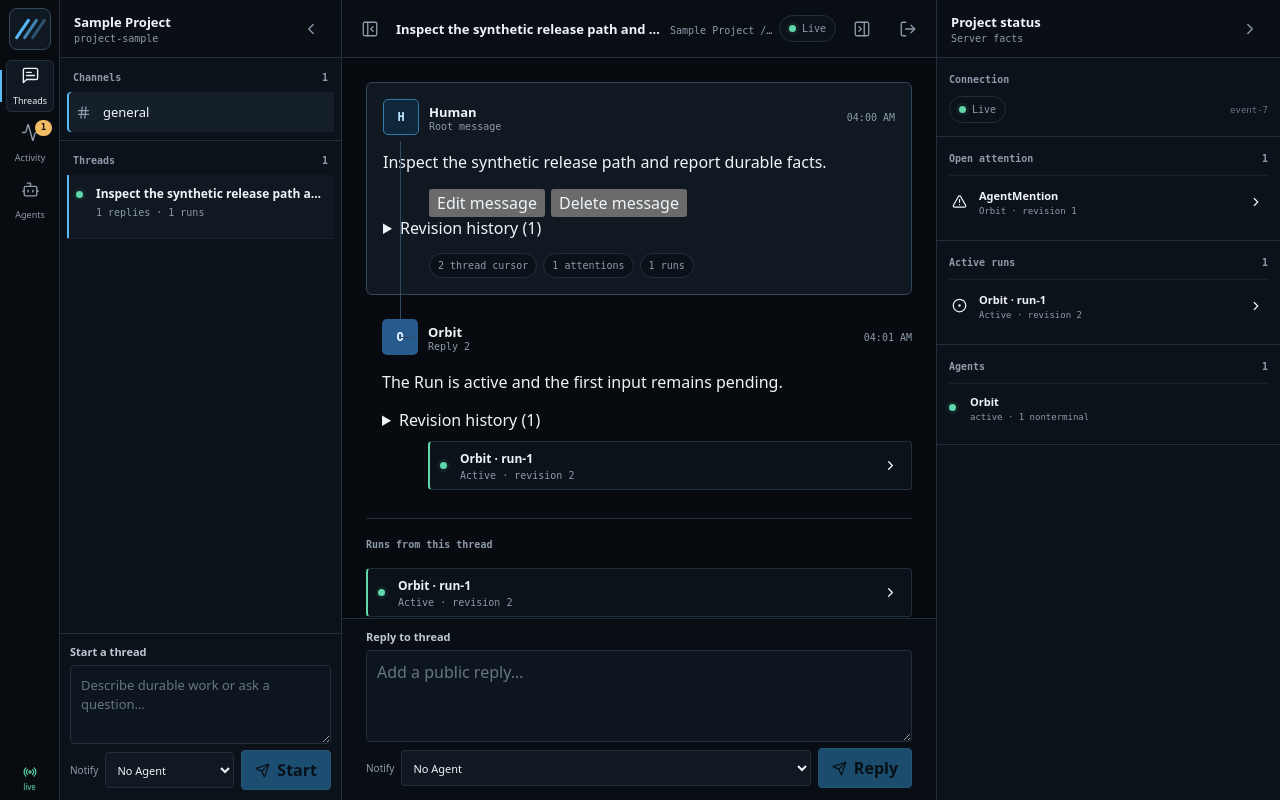
Scenario: TorsorApp › navigates projections through URL-local state
The image size is (1280, 800).
What coordinates should you click on to do the following:
click the button "Activity 1"
I would click on:
 (30, 143)
Its box is [6,117,54,169].
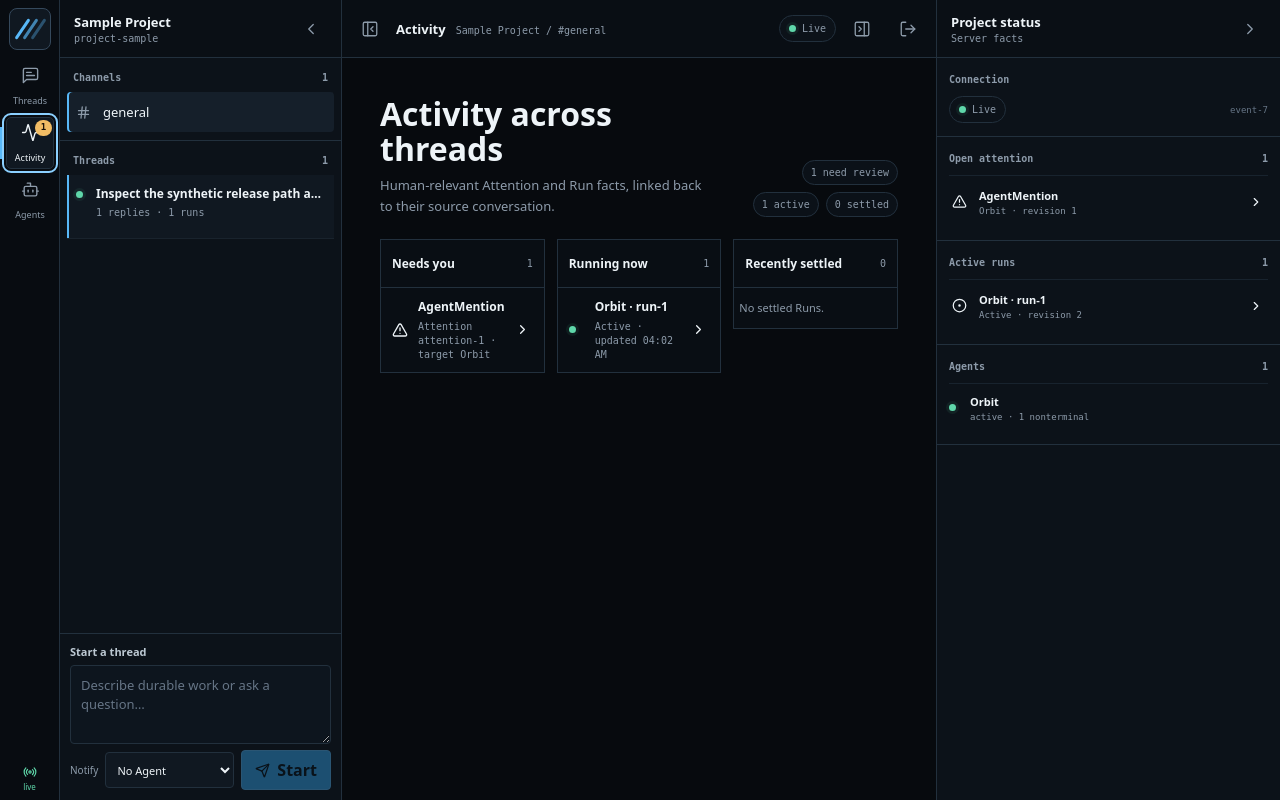
Expected: the heading "Activity across threads" is shown, [380,92,612,170]
